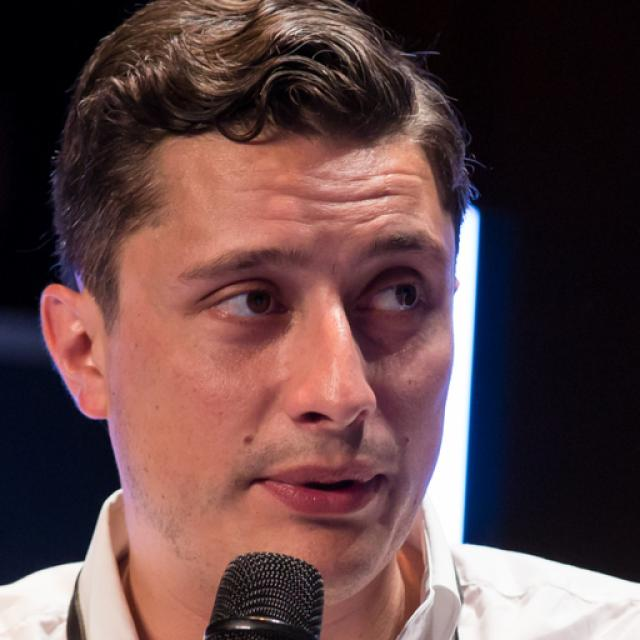Wrinkle: (246, 175, 422, 205), (290, 158, 439, 190), (351, 202, 439, 237), (258, 209, 331, 233)
